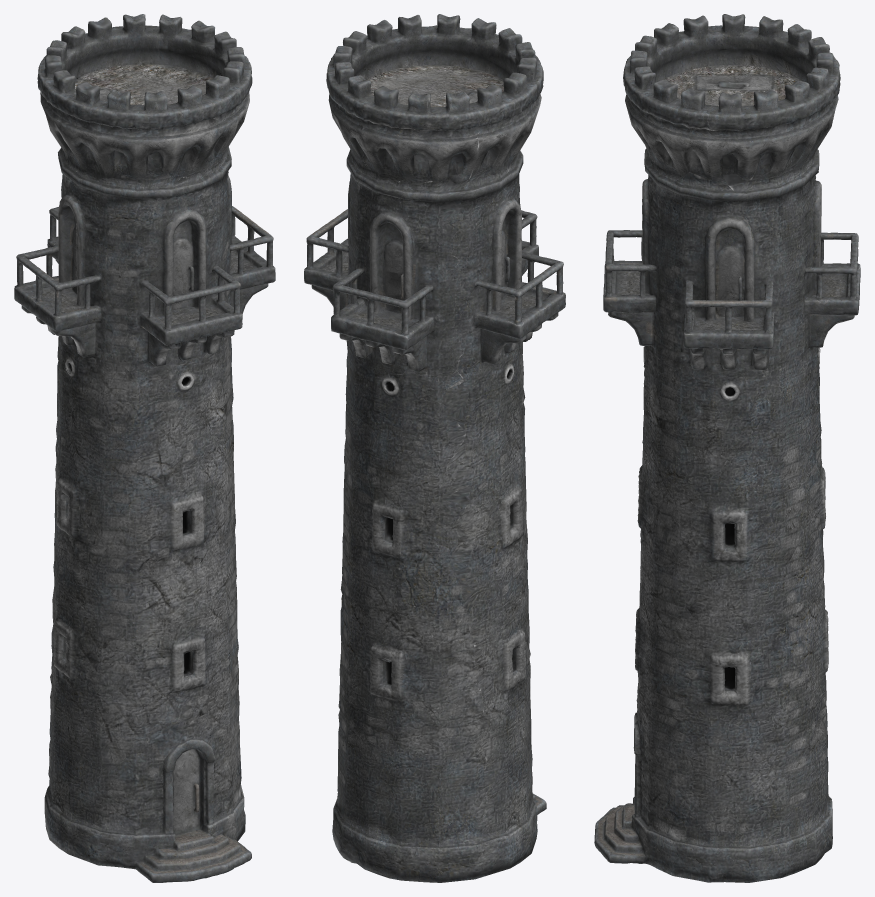
Rendered from Medieval tower_Mid_Poly.fbx.
3 views of the same model, side by side, from view 1: azimuth 30°, elevation 25°; view 2: azimuth 150°, elevation 25°; view 3: azimuth 270°, elevation 25° (orthographic).
Visible parts, largest first — view 1: Medieval tower_mid; view 2: Medieval tower_mid; view 3: Medieval tower_mid.
Boxes of the visible parts, box(x1,y1,x2,y2) form: Medieval tower_mid: box(14, 14, 275, 882); Medieval tower_mid: box(304, 14, 565, 882); Medieval tower_mid: box(594, 14, 860, 882).
Bounding box in the file's own units: 717 × 741 × 2415.
